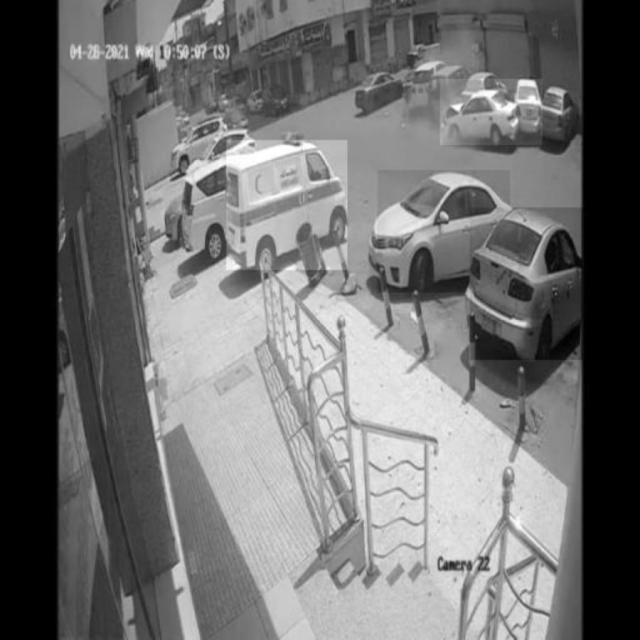accident: (440, 79, 542, 145)
vehicle: (470, 207, 582, 361), (377, 170, 509, 292), (226, 141, 347, 271)
